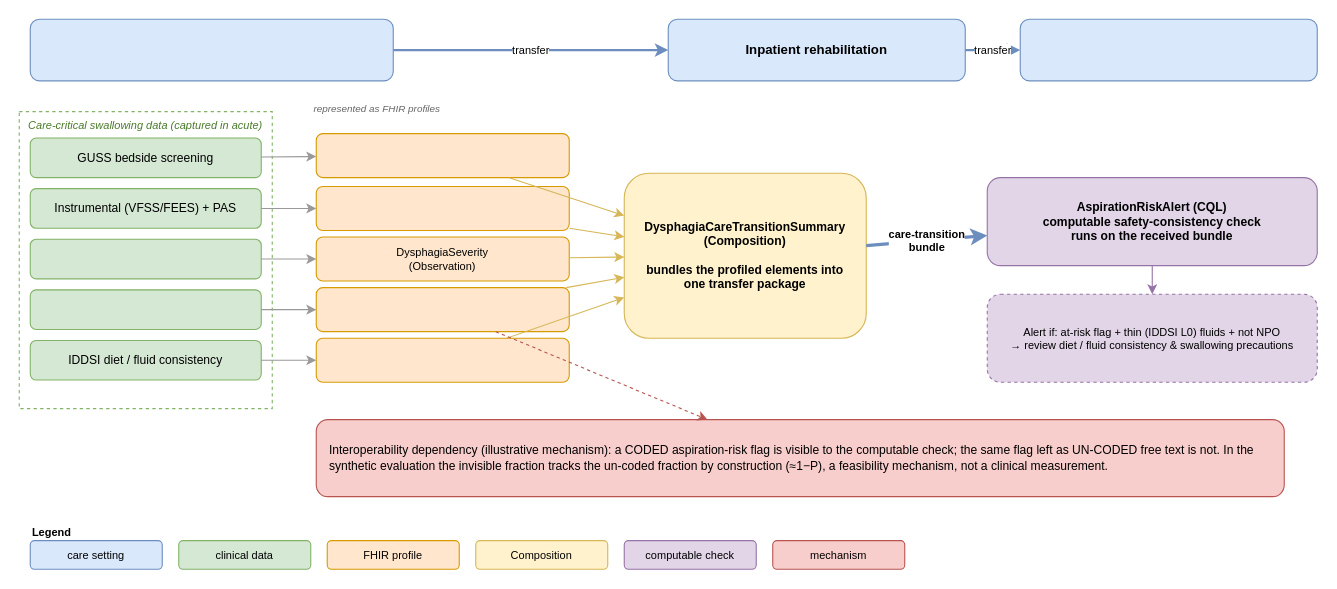
Some shapes in this 1337 by 589 pixel diagram are drawn without their labels. Each missing label, with the box of its shape:
Acute stroke unit (swallowing assessment performed): (29, 18, 393, 81)
Aspiration-risk status: (29, 289, 261, 329)
AspirationRiskFlag (Observation, SNOMED 371736008): (315, 287, 569, 332)
DysphagiaNutritionOrder (NutritionOrder, IDDSI-bound): (315, 337, 569, 382)
Home / tele-rehabilitation: (1019, 18, 1317, 81)
InstrumentalSwallowAssessment (Observation + PAS component): (315, 185, 569, 230)
Severity / oral intake (FOIS): (29, 238, 261, 279)
SwallowingScreeningResult (Observation): (315, 133, 569, 178)
